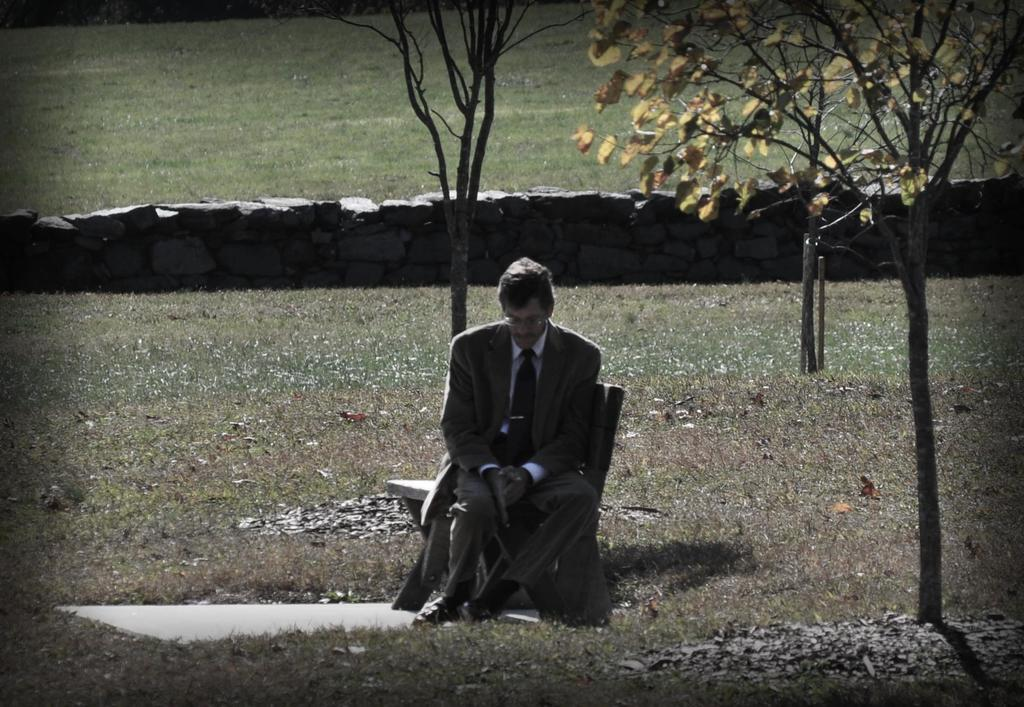Tree: (574, 0, 1017, 622), (264, 0, 599, 338)
